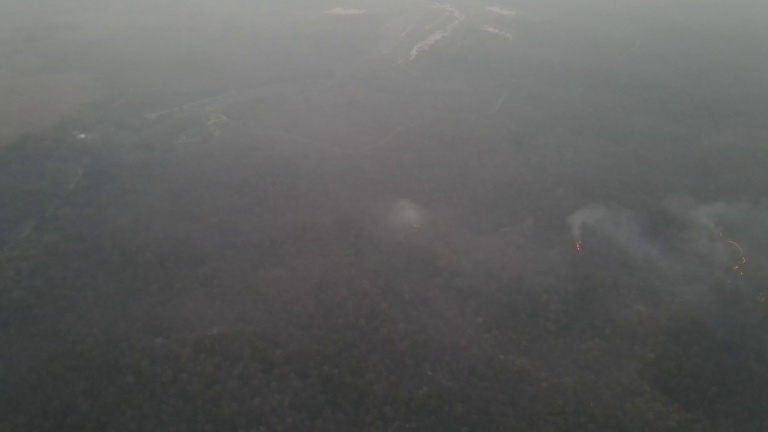fire: (707, 223, 748, 284), (572, 235, 587, 258)
smoke: (670, 192, 764, 300), (561, 203, 663, 282), (382, 197, 432, 235)
